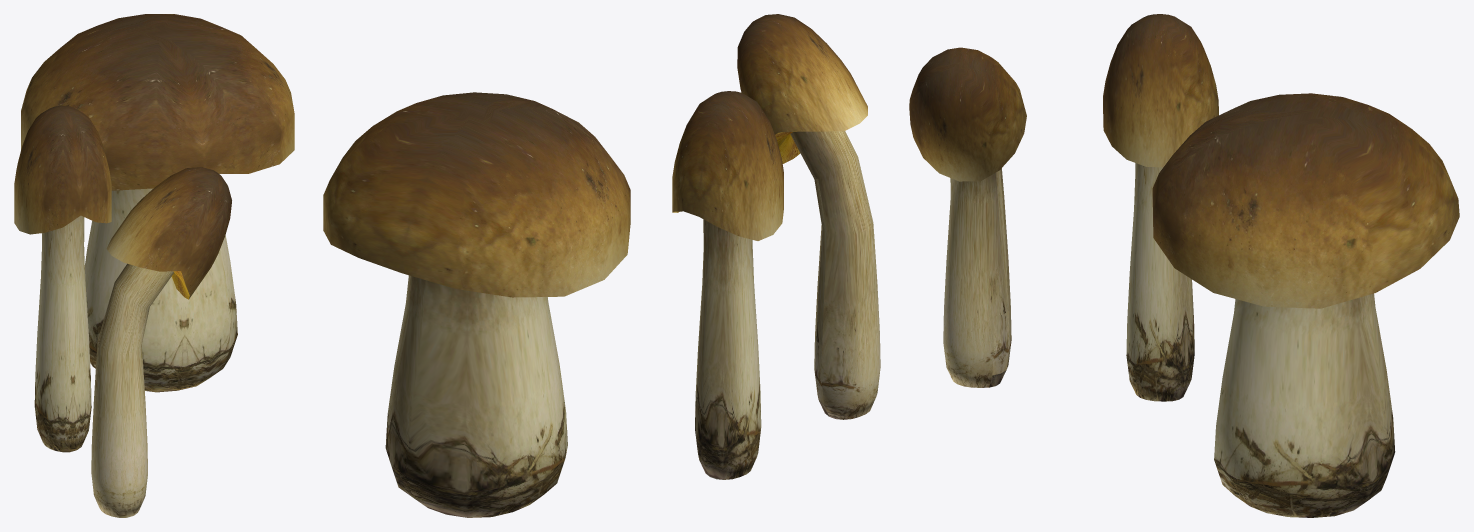
File: toadstool1_d.obj
3 views of the same model, side by side, from view 1: azimuth 30°, elevation 25°; view 2: azimuth 150°, elevation 25°; view 3: azimuth 270°, elevation 25° (orthographic). The views are drawn at different scales.
Parts seen in each view (by area): view 1: toadstool1_d; view 2: toadstool1_d; view 3: toadstool1_d.
Boxes of the visible parts, box(x1,y1,x2,y2) form: toadstool1_d: box(14, 14, 294, 517); toadstool1_d: box(323, 14, 880, 517); toadstool1_d: box(909, 14, 1459, 517).
Size of the model in its own units: 24.3 by 24.54 by 31.53.
1 material, 1 textured.
